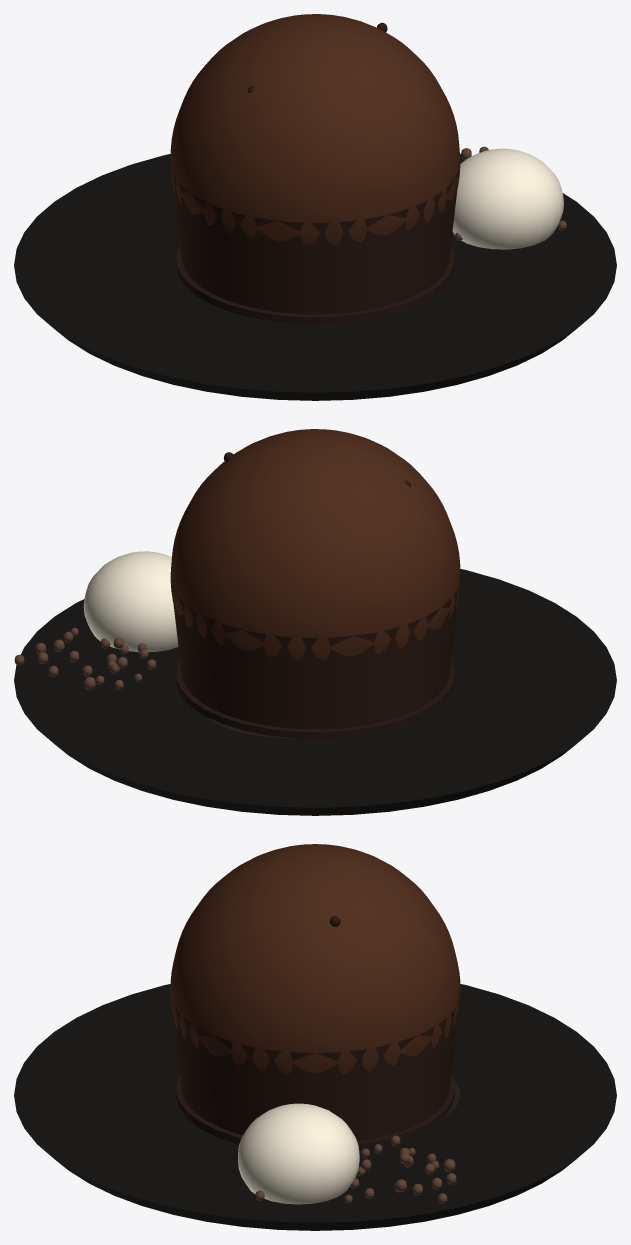
The model's file is souffle-chocolat.glb.
3 views of the same model, one above another, from view 1: azimuth 30°, elevation 25°; view 2: azimuth 150°, elevation 25°; view 3: azimuth 270°, elevation 25° (orthographic).
Size of the model in its own units: 0.34 by 0.1617 by 0.34.
